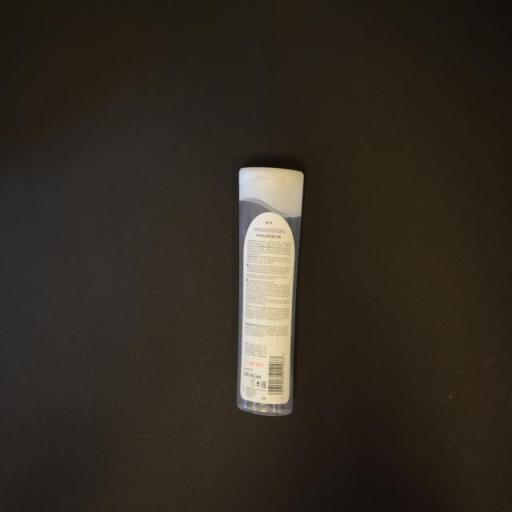plastic: (231, 158, 307, 418)
